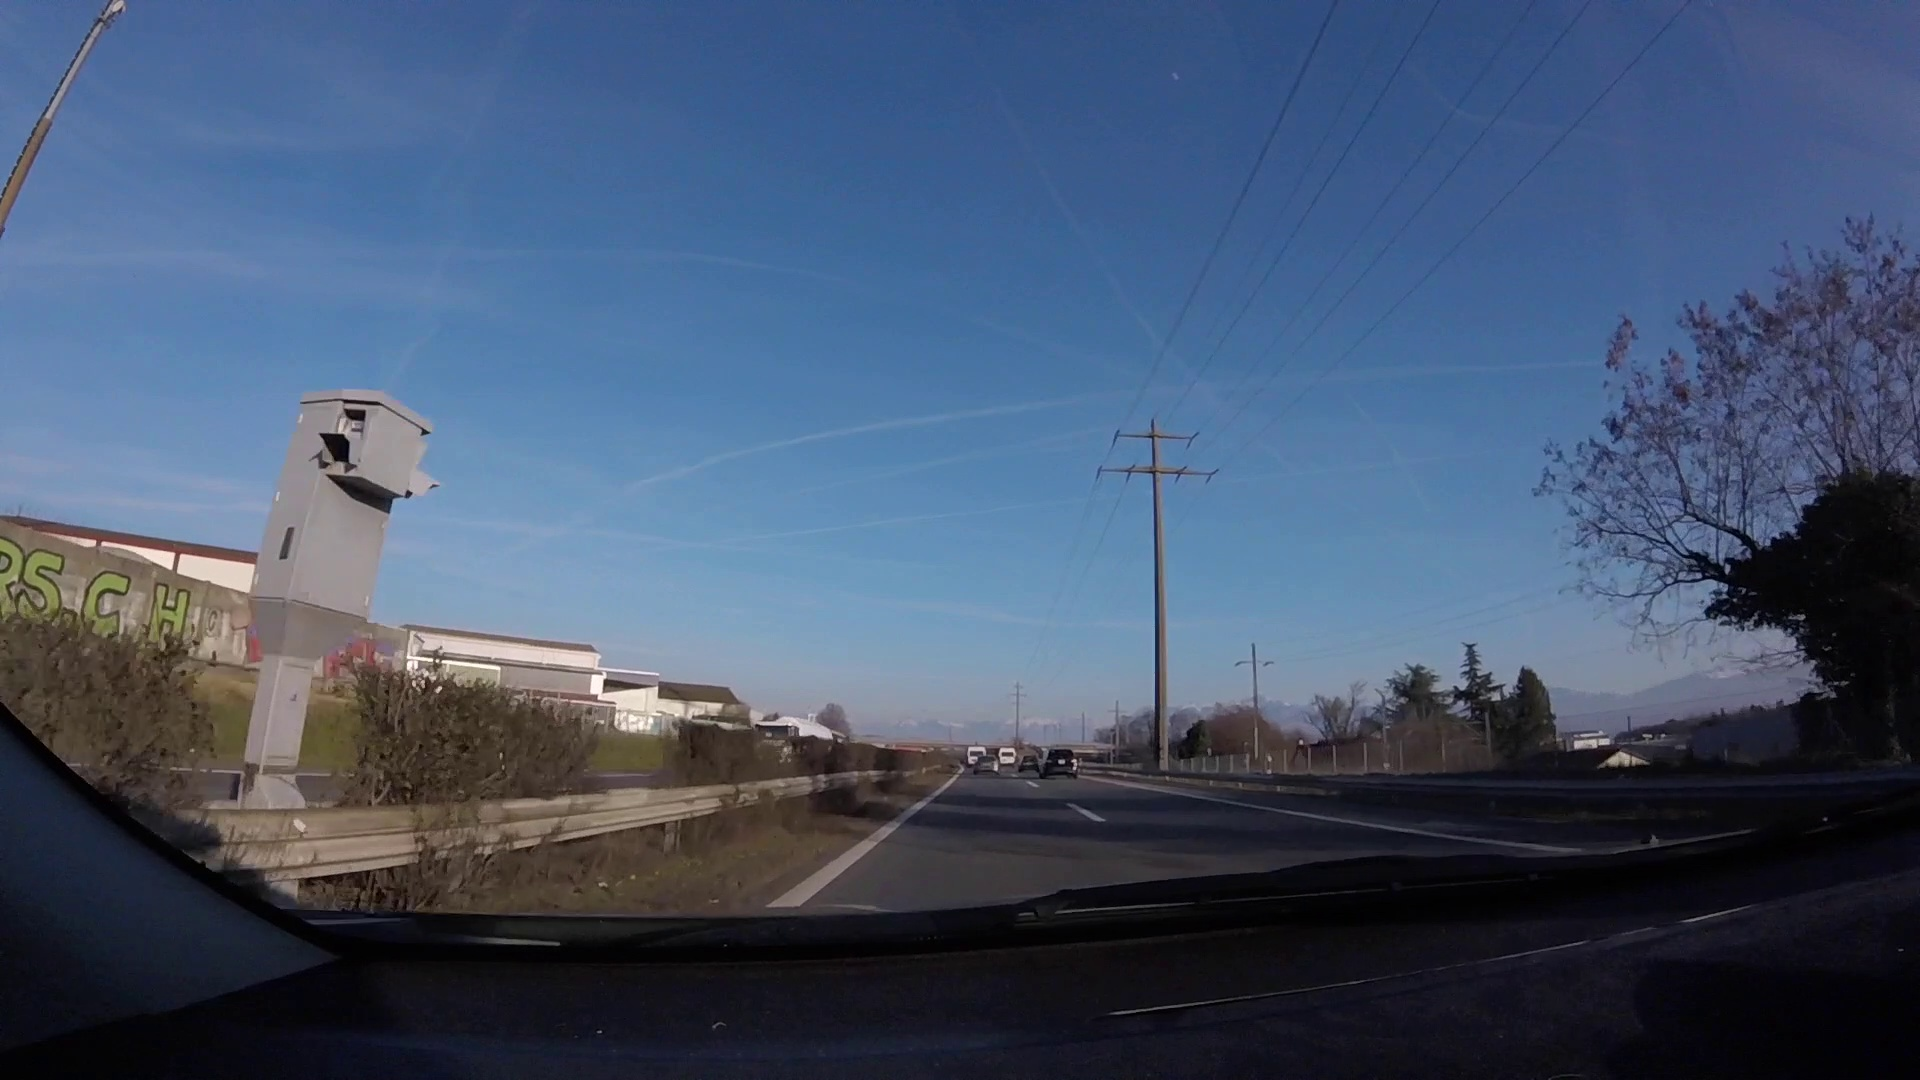radar: (247, 388, 427, 774)
